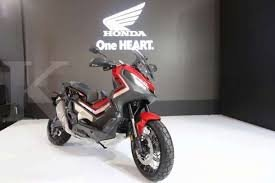motor: (49, 54, 179, 181)
